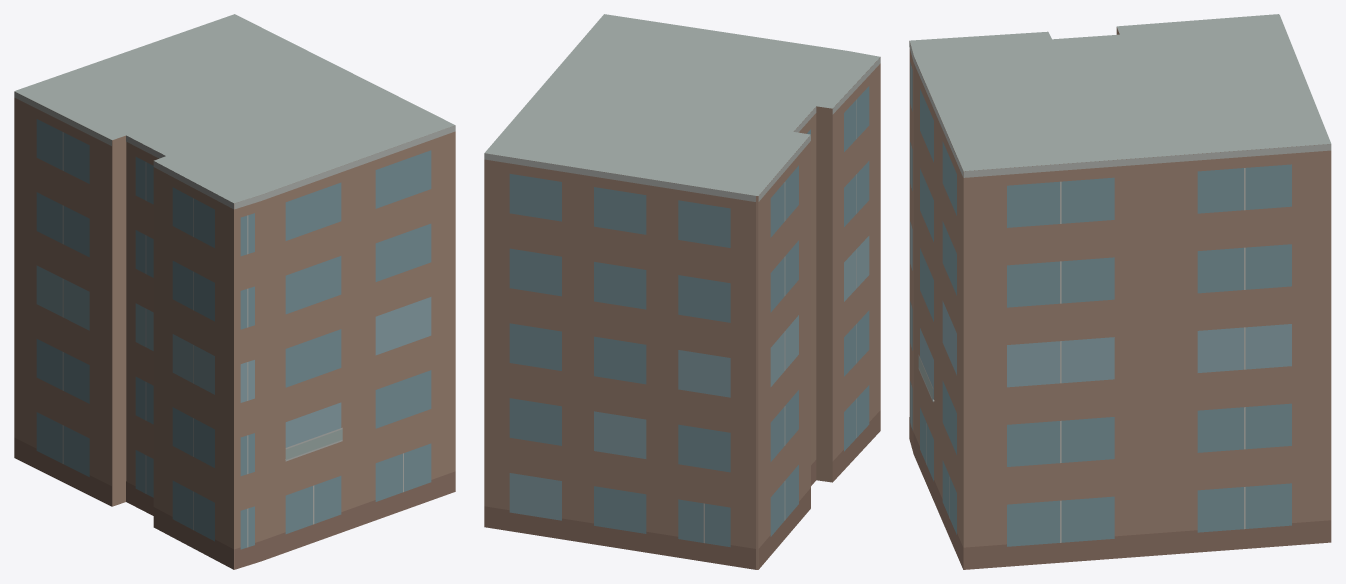
Rendered from survey-upis-32926533.glb.
The picture shows the model from 3 angles, left to right: view 1: azimuth 30°, elevation 25°; view 2: azimuth 150°, elevation 25°; view 3: azimuth 270°, elevation 25°; orthographic projection. The views are drawn at different scales.
Visible parts, largest first — view 1: survey-upis-32926533.tmp; view 2: survey-upis-32926533.tmp; view 3: survey-upis-32926533.tmp.
Part boxes in pixels (x1=…): survey-upis-32926533.tmp: x1=14, y1=14, x2=455, y2=569; survey-upis-32926533.tmp: x1=484, y1=14, x2=880, y2=569; survey-upis-32926533.tmp: x1=909, y1=14, x2=1331, y2=569.
Size of the model in its own units: 12.27 by 14.5 by 13.91.
